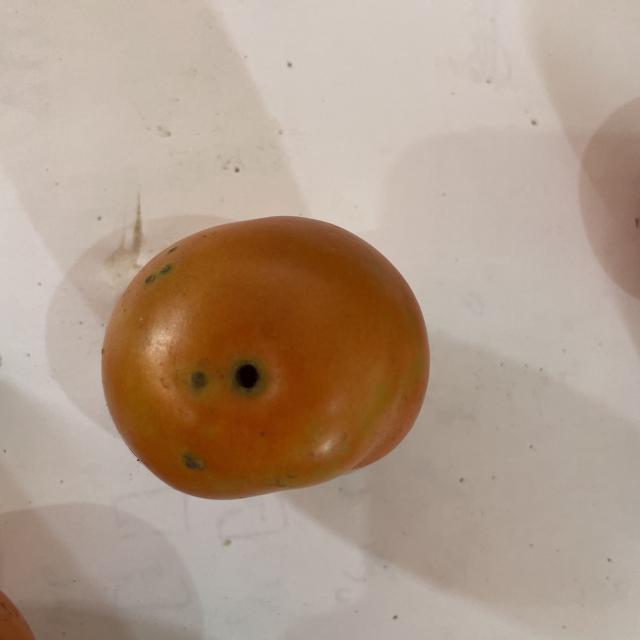fruitworm_bore: (172, 344, 264, 399)
